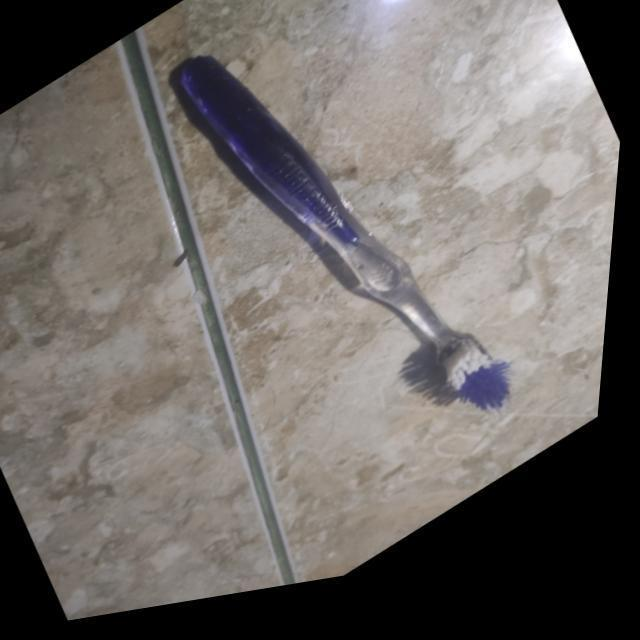toothbrush: (150, 49, 542, 443)
